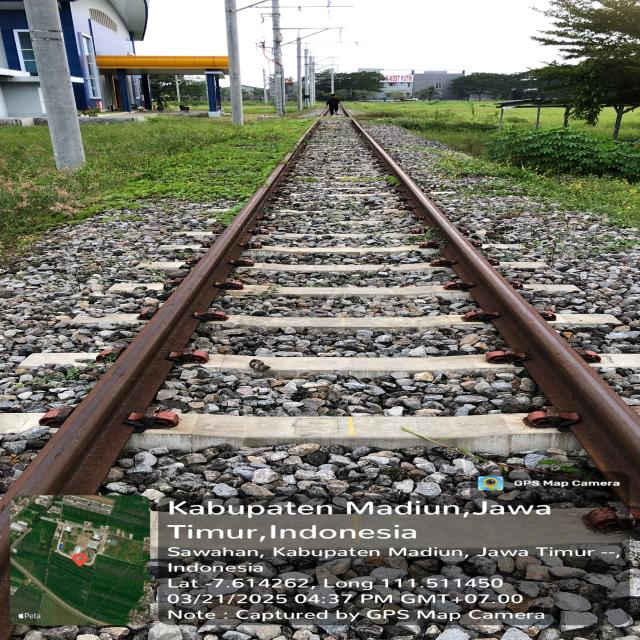rail-detection: (0, 165, 285, 560), (353, 122, 640, 509)
